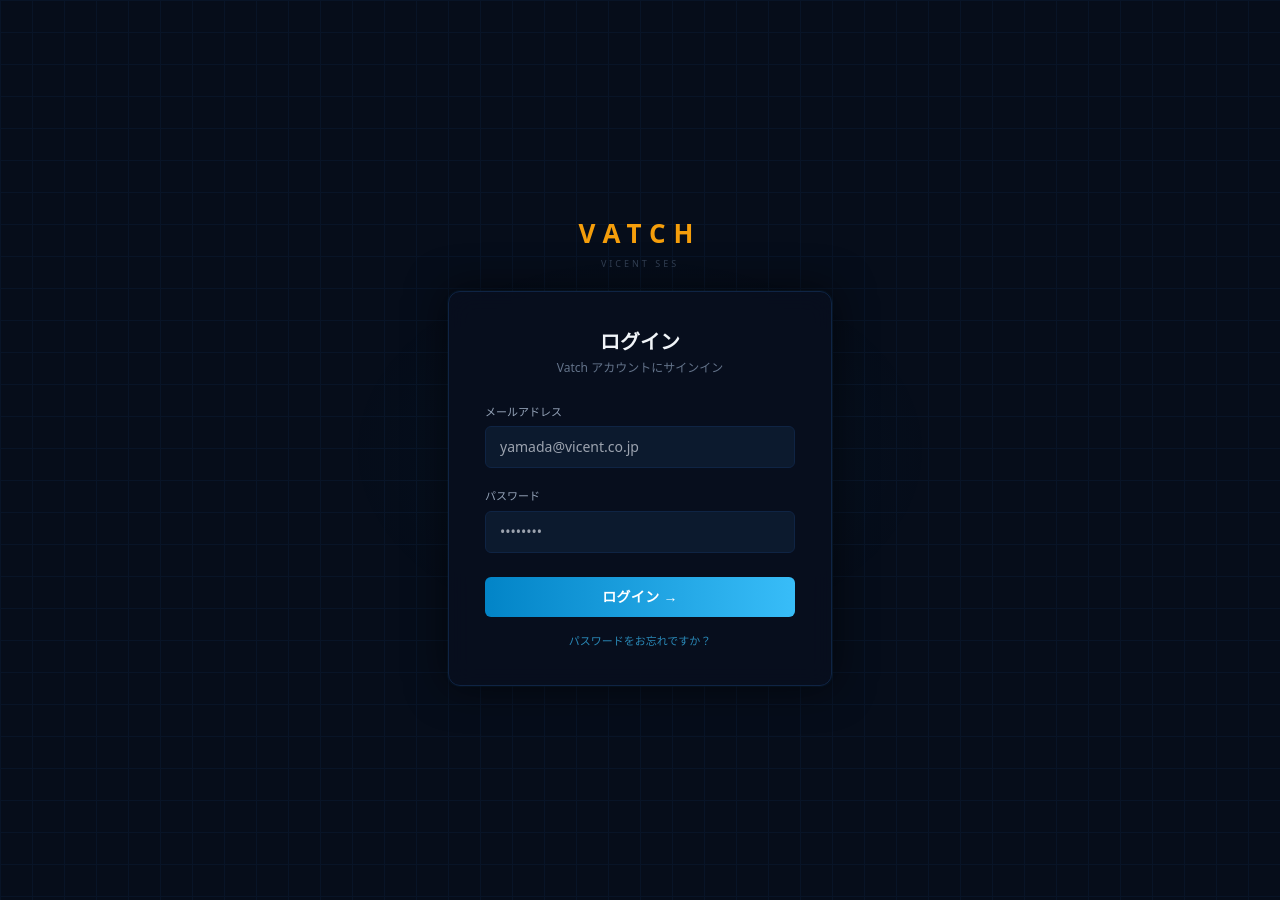
Test case: メール未入力でサブミットするとエラーが表示される
Click the button "ログイン →" at (640, 596), box [485,576,795,616]
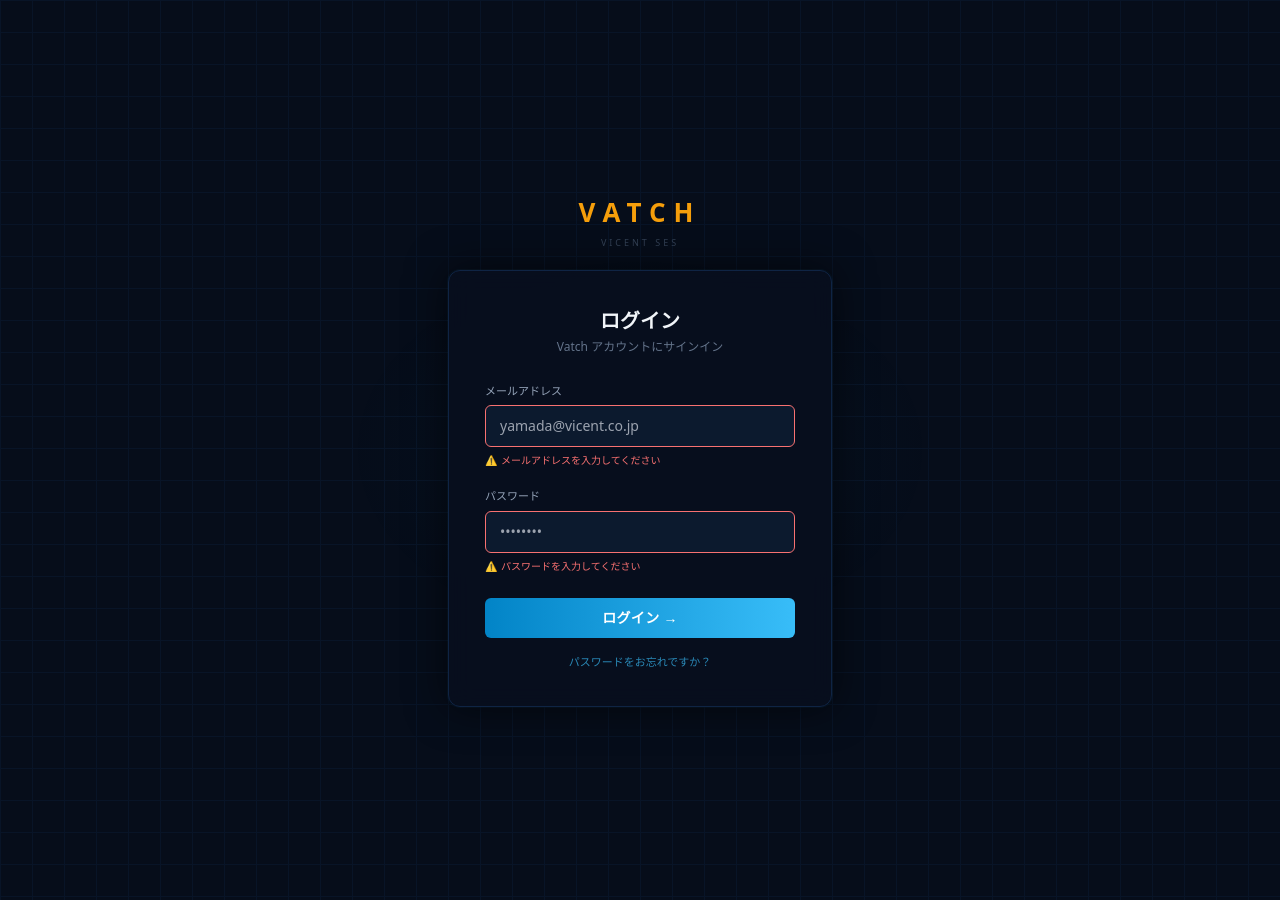
Result: the text "メールアドレスを入力してください" is shown at [501,453,660,468]
